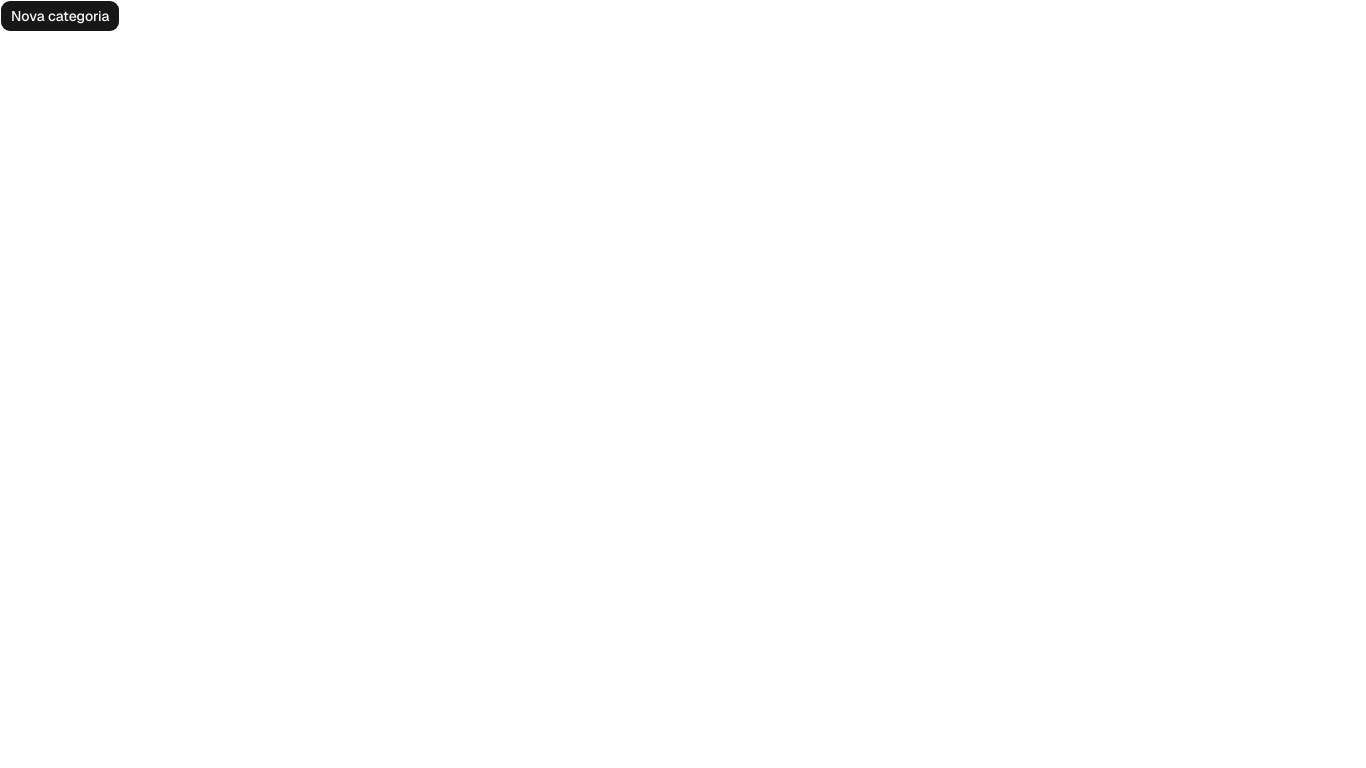
CreateCategoryDialog › opens with Nome and Criar categoria
What coordinates should you click on to do the following:
click the button "Nova categoria"
I would click on:
 (60, 16)
Its box is [0,0,120,32].
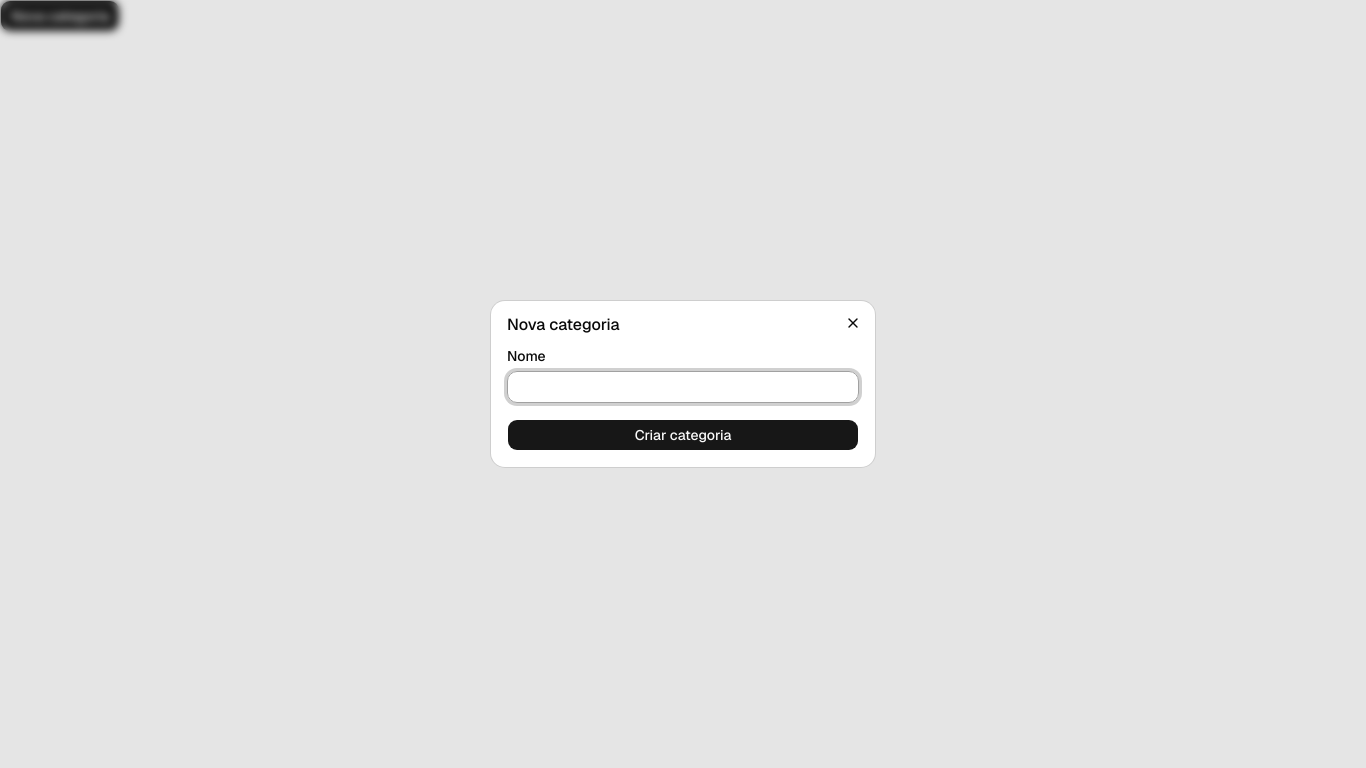
Now the dialog is shown, box [491,301,875,467]
Now the field labelled "Nome" is shown, box [507,371,859,403]
Now the button "Criar categoria" is shown, box [507,419,859,451]
